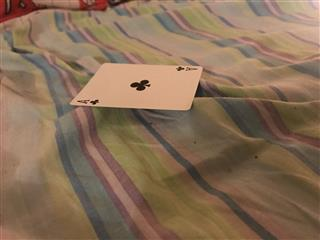AceOfClubs: (69, 62, 202, 110)
